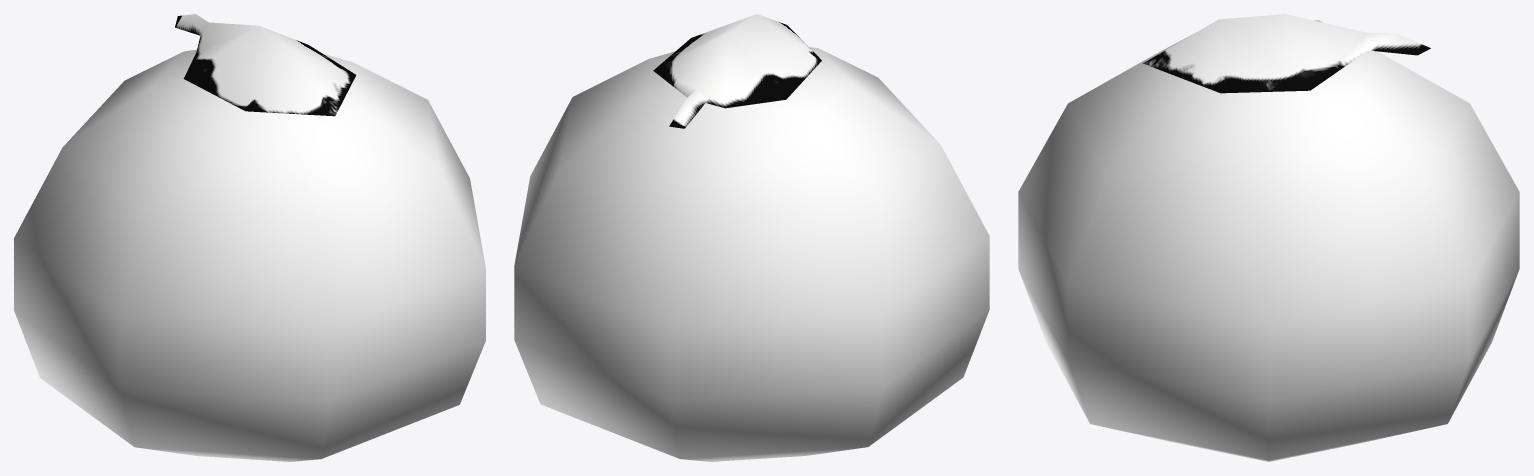
File: Red_ver1.fbx
3 views of the same model, side by side, from view 1: azimuth 30°, elevation 25°; view 2: azimuth 150°, elevation 25°; view 3: azimuth 270°, elevation 25° (orthographic). The views are drawn at different scales.
Parts seen in each view (by area): view 1: Red; view 2: Red; view 3: Red.
Boxes of the visible parts, box(x1,y1,x2,y2) form: Red: box(14, 14, 485, 461); Red: box(514, 14, 989, 461); Red: box(1018, 14, 1519, 461).
Bounding box in the file's own units: 32.65 × 31.08 × 33.49.
1 material, 1 textured.
